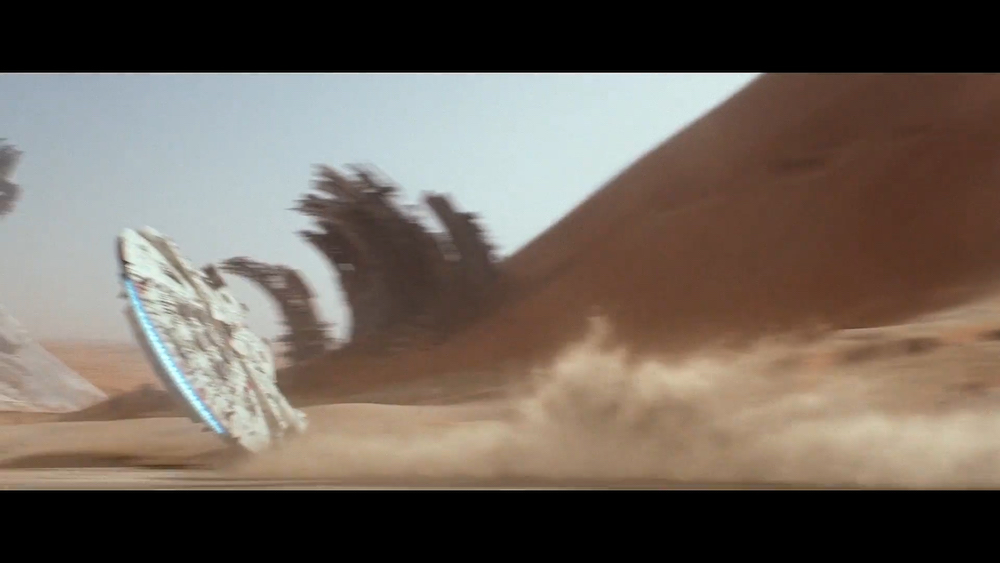Millennium Falcon: (114, 224, 311, 461)
